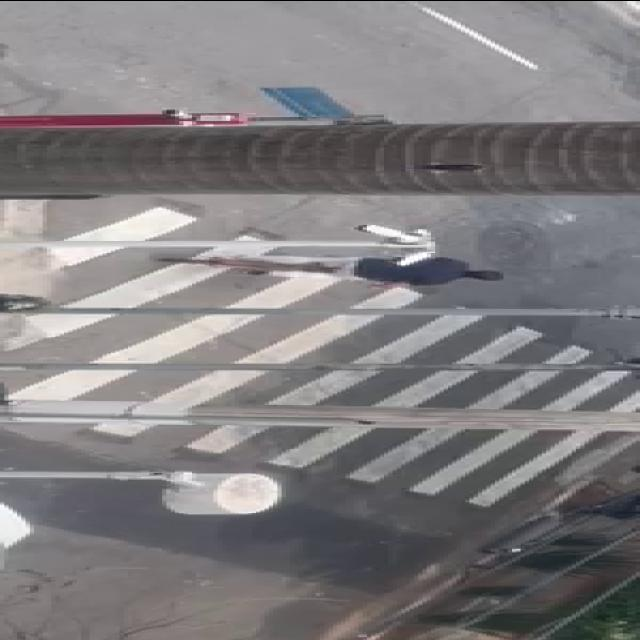bicycle: (160, 244, 528, 296)
